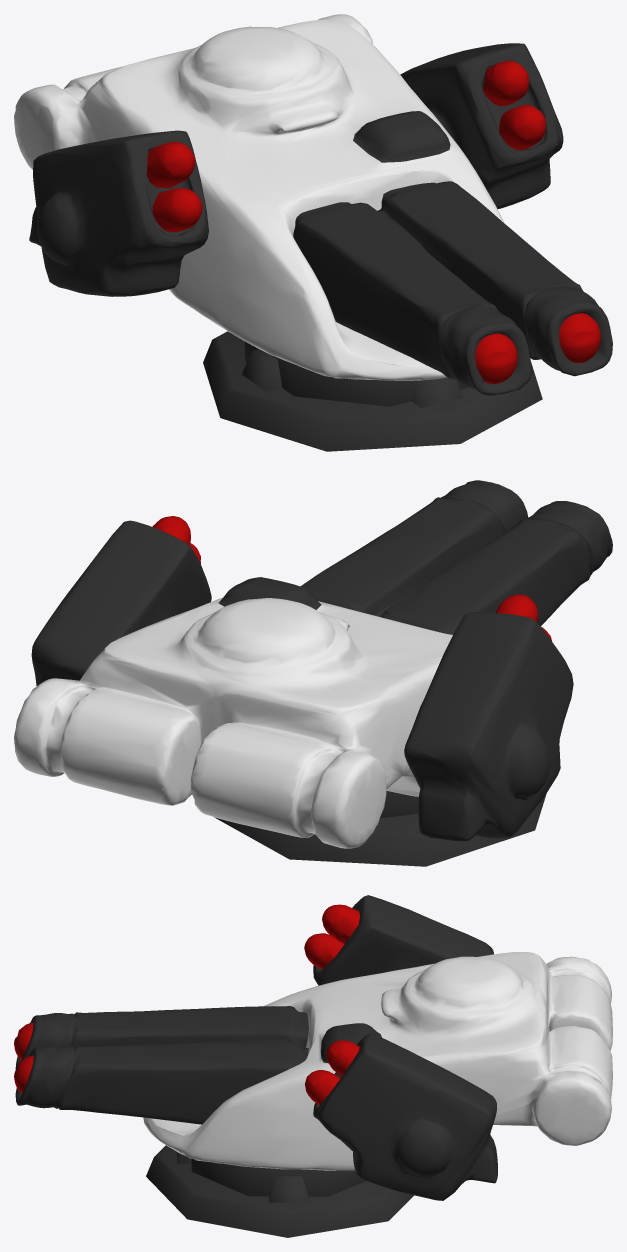
The model's file is RocketTurret1.fbx.
3 renders of one model, top to bottom at view 1: azimuth 30°, elevation 25°; view 2: azimuth 150°, elevation 25°; view 3: azimuth 270°, elevation 25°, orthographic. The views are drawn at different scales.
Parts seen in each view (by area): view 1: side2; view 2: side2; view 3: side2.
Part boxes in pixels (x1,y1,x2,y2): side2: (14, 14, 612, 451); side2: (14, 480, 612, 866); side2: (14, 895, 612, 1237).
Bounding box in the file's own units: 476 × 239 × 621.
